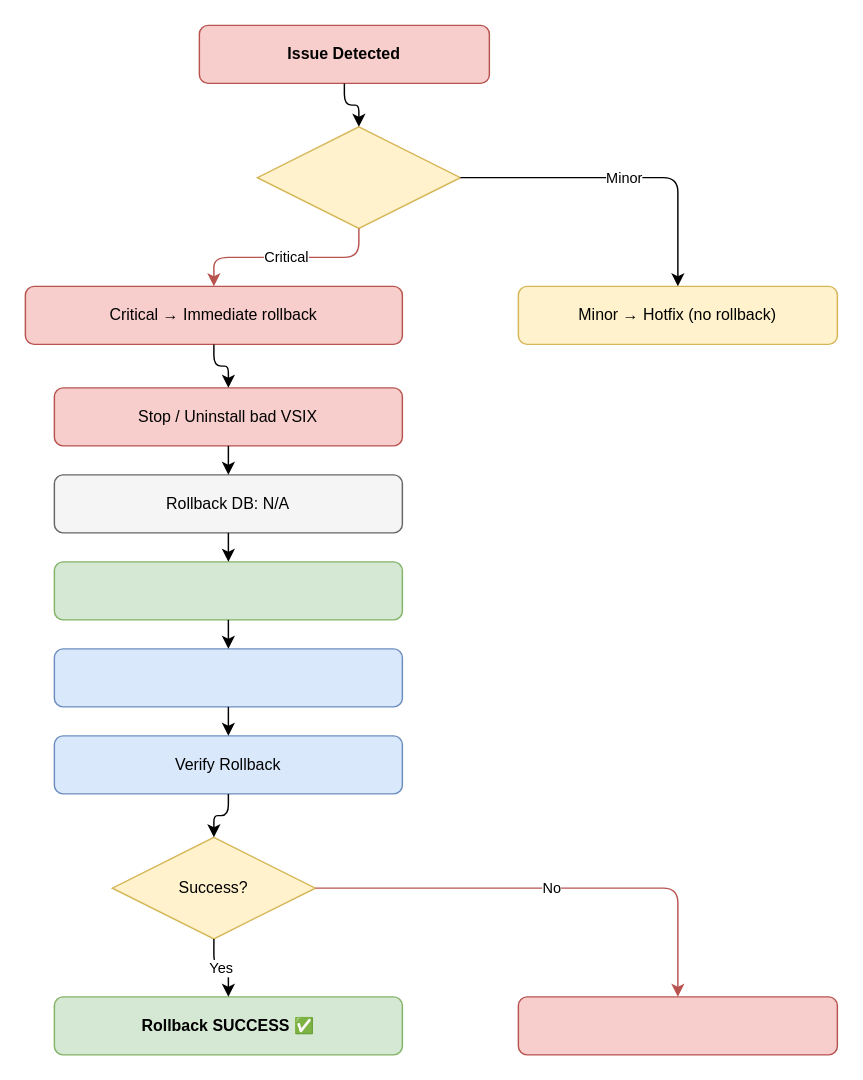
The diagram is 863 pixels wide and 1080 high, and some of its shapes have lost their labels. The centre of each missing label's shape, as x and y in pixels:
"Deploy Previous VSIX" belongs at point 227,590.
"Escalate / Manual fix" belongs at point 677,1025.
"Restore Config" belongs at point 227,677.
"Severity?" belongs at point 358,176.
